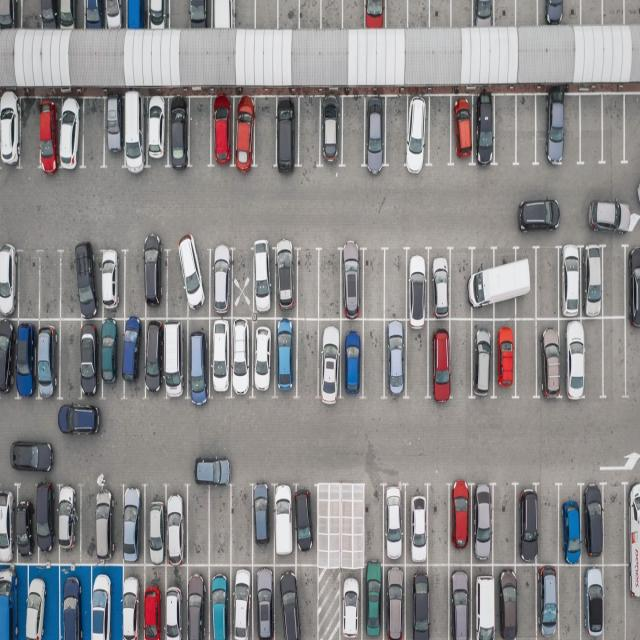space-empty: (404, 320, 431, 398), (602, 318, 629, 396), (292, 320, 319, 398), (58, 320, 84, 400), (447, 319, 473, 398), (184, 486, 210, 564), (208, 485, 233, 566), (516, 318, 542, 395), (291, 564, 318, 638), (231, 485, 255, 568), (492, 487, 517, 565), (361, 318, 386, 396), (254, 94, 280, 168), (557, 562, 582, 638), (603, 244, 629, 317), (426, 485, 449, 567), (228, 245, 253, 320), (341, 95, 367, 167), (424, 564, 449, 638), (426, 96, 452, 167), (534, 249, 560, 320), (188, 97, 214, 168), (361, 488, 384, 568), (293, 250, 319, 320), (82, 98, 108, 168), (602, 486, 625, 565), (492, 93, 517, 165), (604, 563, 628, 638), (316, 251, 342, 320), (297, 98, 323, 167), (538, 488, 561, 566), (449, 250, 474, 320), (603, 96, 628, 166), (583, 318, 605, 397), (515, 566, 539, 638), (383, 251, 407, 322), (384, 97, 408, 168), (360, 252, 385, 320), (580, 96, 604, 166), (20, 99, 43, 171), (515, 94, 538, 165), (124, 250, 148, 318), (18, 252, 42, 318), (166, 246, 188, 317), (81, 485, 101, 563), (38, 251, 61, 318), (561, 93, 581, 166), (318, 491, 336, 567), (625, 319, 640, 396), (624, 93, 640, 162), (319, 0, 343, 30), (299, 0, 323, 30), (341, 0, 365, 29), (384, 0, 408, 29), (168, 0, 191, 30), (450, 0, 474, 28), (254, 0, 277, 29), (21, 0, 43, 30), (277, 0, 299, 30), (407, 1, 431, 28), (430, 0, 453, 28), (234, 0, 256, 29), (515, 0, 538, 27), (493, 0, 515, 27), (581, 0, 603, 25), (601, 1, 624, 24), (624, 0, 640, 24)
space-occupied: (560, 317, 596, 397), (85, 562, 120, 638), (18, 564, 53, 640), (66, 248, 100, 320), (57, 566, 90, 640), (180, 243, 212, 319), (164, 484, 192, 564), (536, 320, 564, 399), (186, 318, 213, 399), (539, 94, 569, 166), (471, 564, 500, 638), (490, 247, 519, 320), (251, 319, 278, 397), (32, 320, 59, 398), (446, 483, 472, 563), (122, 318, 148, 398), (206, 318, 232, 398), (207, 244, 235, 318), (426, 321, 452, 400), (405, 484, 431, 563), (94, 483, 120, 562), (159, 567, 187, 640), (272, 318, 298, 396), (471, 318, 497, 396), (383, 319, 409, 397), (339, 318, 365, 396), (56, 482, 82, 560), (380, 483, 405, 564), (558, 246, 586, 318), (404, 97, 432, 169), (317, 316, 342, 396), (161, 318, 186, 398), (206, 564, 233, 638), (36, 566, 63, 640), (230, 563, 256, 639), (404, 250, 432, 320), (492, 317, 517, 395), (448, 564, 474, 639), (140, 564, 166, 639), (227, 319, 252, 397), (183, 564, 209, 639), (100, 250, 128, 319), (208, 96, 234, 170), (122, 96, 148, 170), (510, 248, 536, 322), (31, 480, 55, 560), (449, 95, 476, 166), (143, 96, 169, 169), (100, 316, 123, 398), (536, 563, 561, 638), (121, 564, 146, 639), (272, 245, 298, 317), (363, 97, 389, 169), (472, 486, 496, 564), (578, 245, 604, 317), (167, 98, 193, 170), (472, 246, 498, 318), (14, 318, 38, 396), (254, 242, 279, 316), (253, 564, 278, 638), (340, 569, 366, 640), (142, 484, 165, 564), (338, 251, 365, 319), (292, 487, 316, 563), (578, 562, 602, 638), (560, 488, 584, 564), (6, 563, 30, 639), (317, 97, 343, 167), (251, 486, 274, 565), (232, 97, 257, 169), (380, 563, 404, 638), (274, 563, 298, 638), (123, 486, 146, 564), (405, 564, 429, 638), (274, 97, 299, 168), (515, 488, 538, 565), (426, 251, 452, 319), (472, 98, 497, 168), (59, 98, 84, 168), (273, 486, 296, 562), (82, 320, 104, 399), (144, 319, 166, 397), (580, 488, 602, 566), (144, 246, 168, 316), (359, 567, 382, 640), (494, 567, 517, 640), (104, 98, 127, 168), (82, 247, 104, 318), (16, 483, 36, 560), (39, 98, 60, 171), (0, 96, 21, 168), (0, 564, 19, 640), (0, 248, 19, 318), (0, 488, 16, 566), (625, 482, 640, 563), (625, 561, 640, 637), (0, 319, 14, 396), (540, 0, 580, 25), (627, 245, 640, 319), (57, 0, 81, 30), (84, 0, 108, 30), (146, 0, 170, 29), (188, 0, 212, 29), (362, 0, 386, 29), (125, 0, 148, 30), (209, 0, 233, 28), (104, 0, 126, 30), (473, 0, 497, 27), (0, 1, 21, 30), (40, 0, 59, 30)
